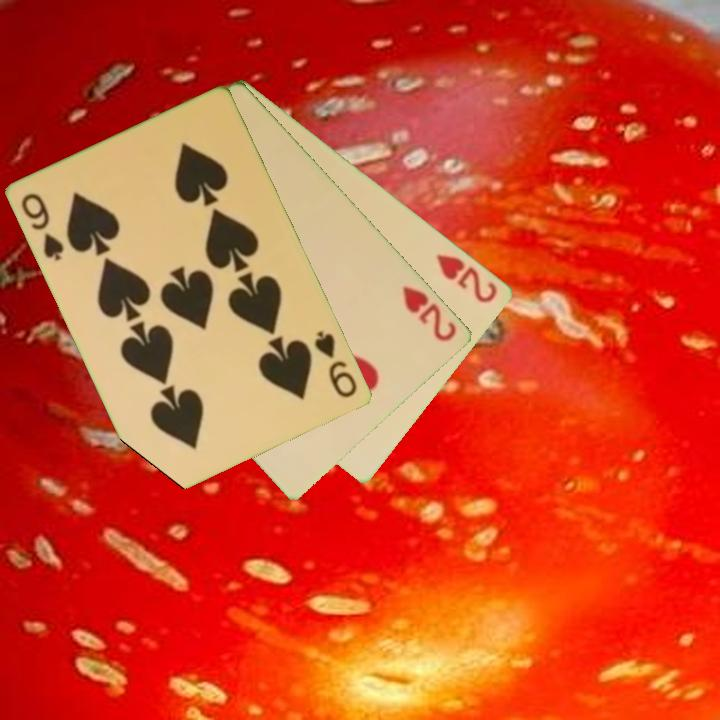2h: (399, 282, 460, 345), (433, 250, 501, 306)
9s: (18, 189, 68, 264), (311, 327, 361, 401)
